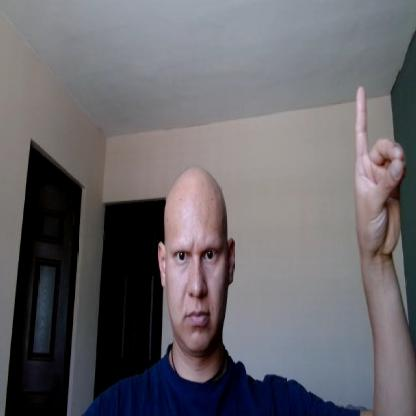D: (354, 86, 407, 256)
